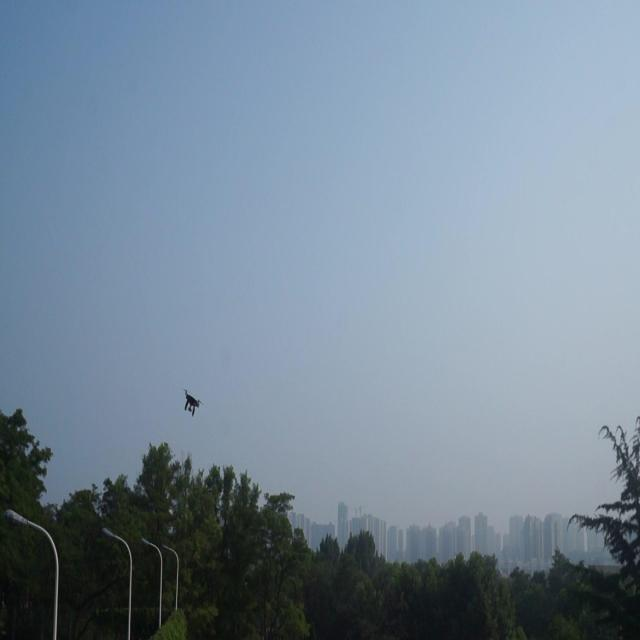drone: (182, 384, 202, 420)
